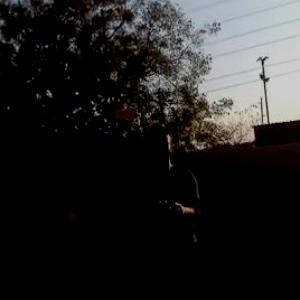follow: (130, 117, 209, 299)
